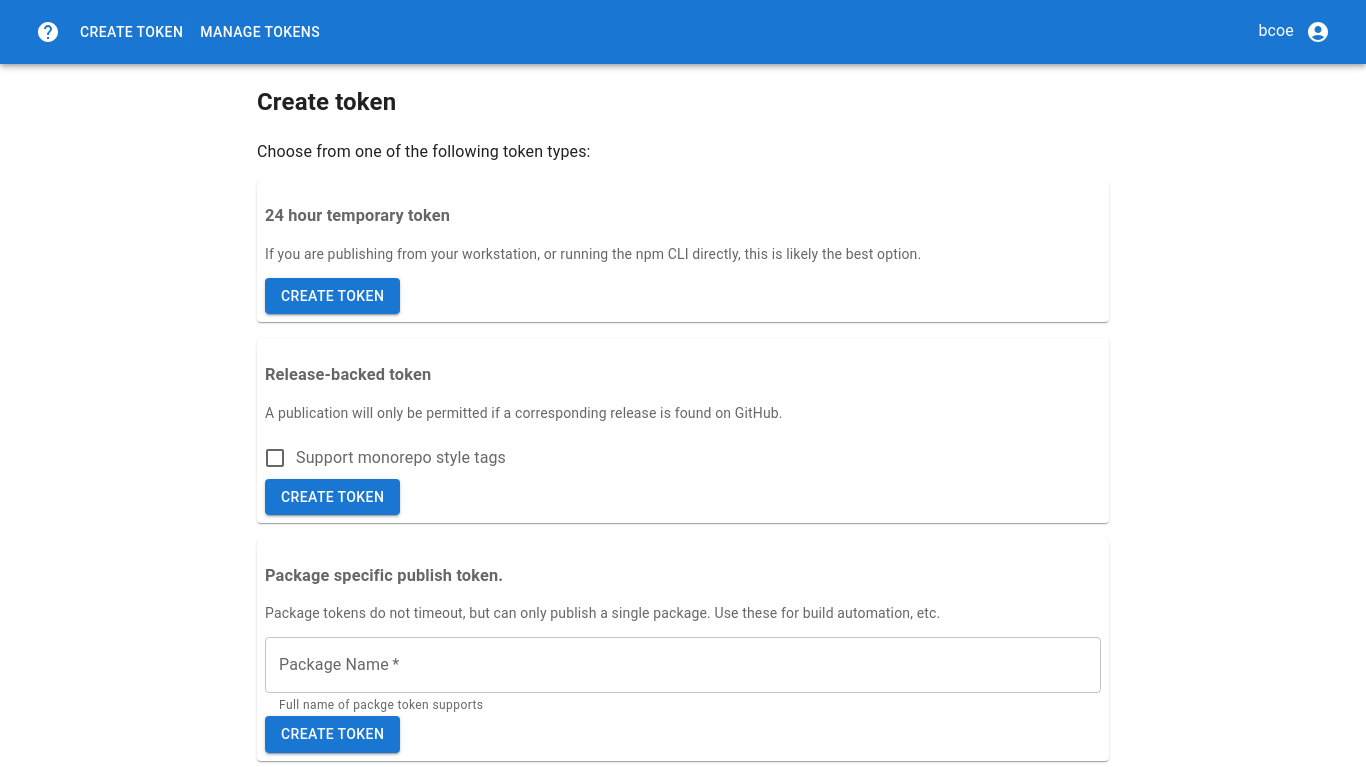
Test: allows temporary token to be created
The width and height of the screenshot is (1366, 767).
Check: the heading "24 hour temporary token" is shown, box [265,206,450,225]
Click the button with test id "ttl": (333, 296) [265,278,400,314]
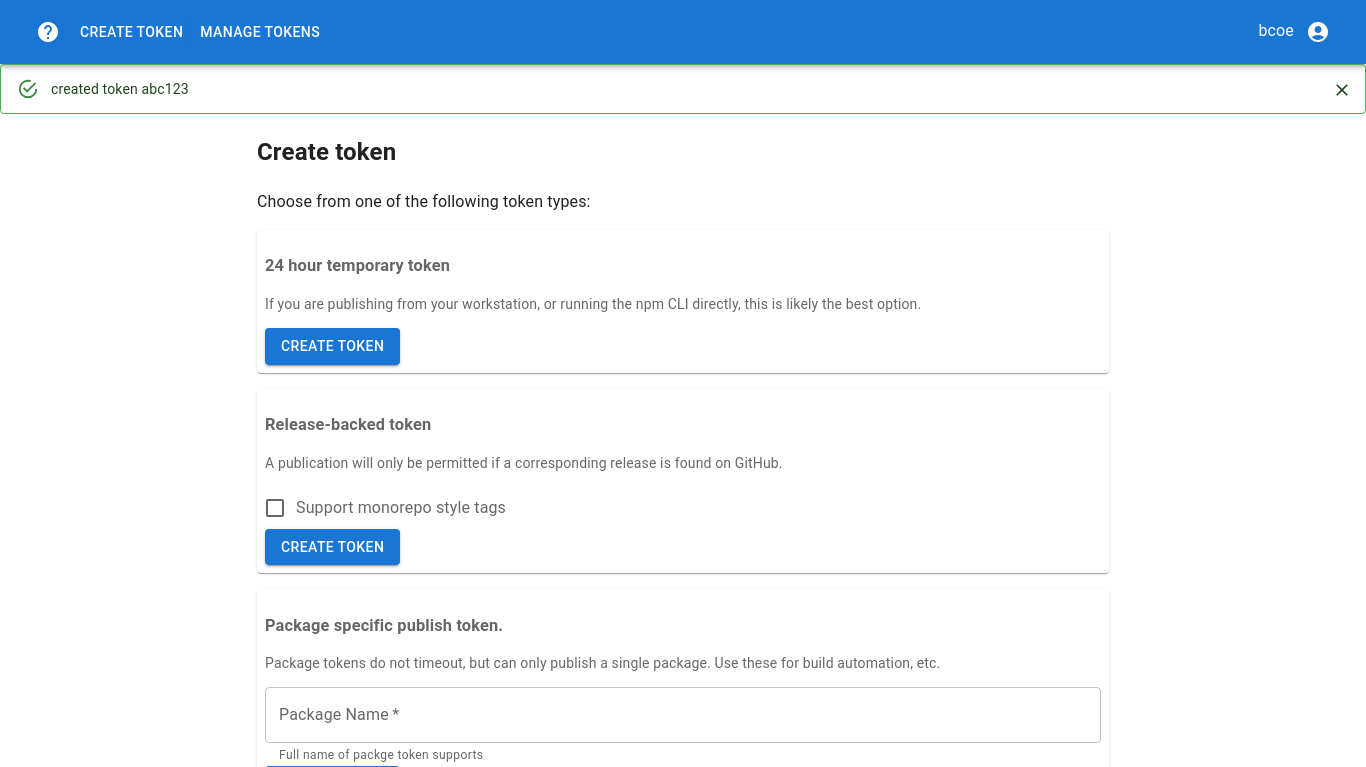
Check: the text "created token abc123" is shown, box [51,81,189,97]
